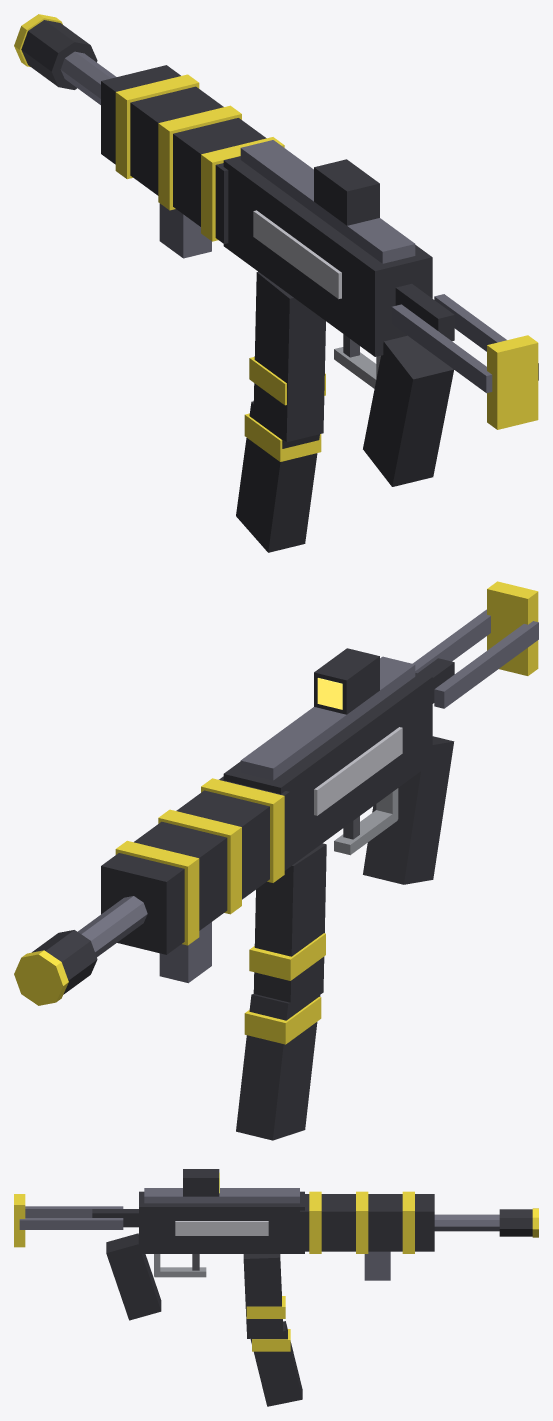
The model's file is smg_mythic.glb.
3 views of the same model, one above another, from view 1: azimuth 30°, elevation 25°; view 2: azimuth 150°, elevation 25°; view 3: azimuth 270°, elevation 25° (orthographic). The views are drawn at different scales.
Parts seen in each view (by area): view 1: HornetSmg; view 2: HornetSmg; view 3: HornetSmg.
Part boxes in pixels (x1,y1,x2,y2): HornetSmg: (14,14,538,552); HornetSmg: (14,581,538,1140); HornetSmg: (14,1169,538,1406).
Size of the model in its own units: 0.088 by 0.4858 by 1.01.
